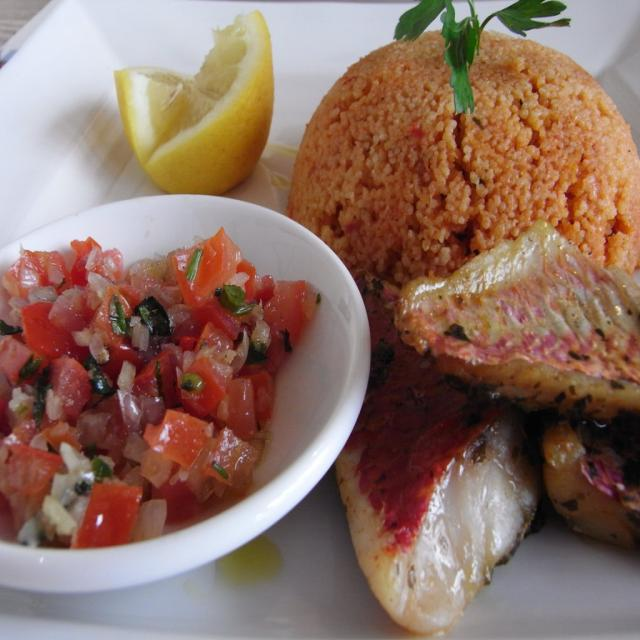Lemon: (114, 12, 278, 189)
